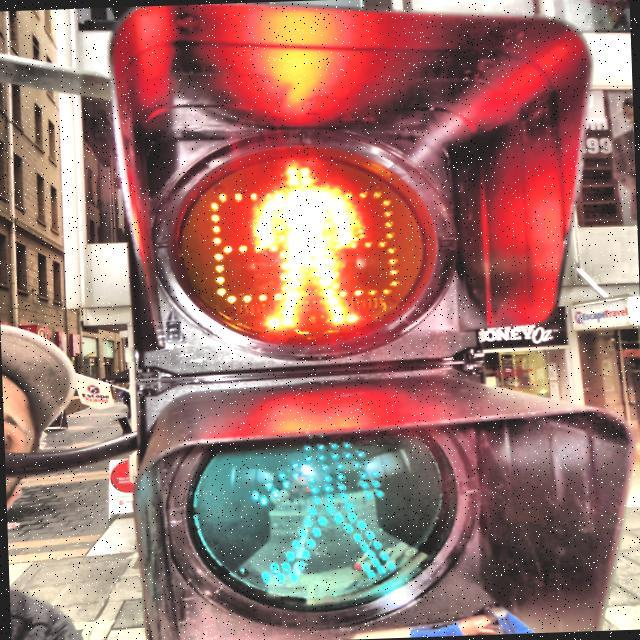red_light: (242, 156, 371, 334)
